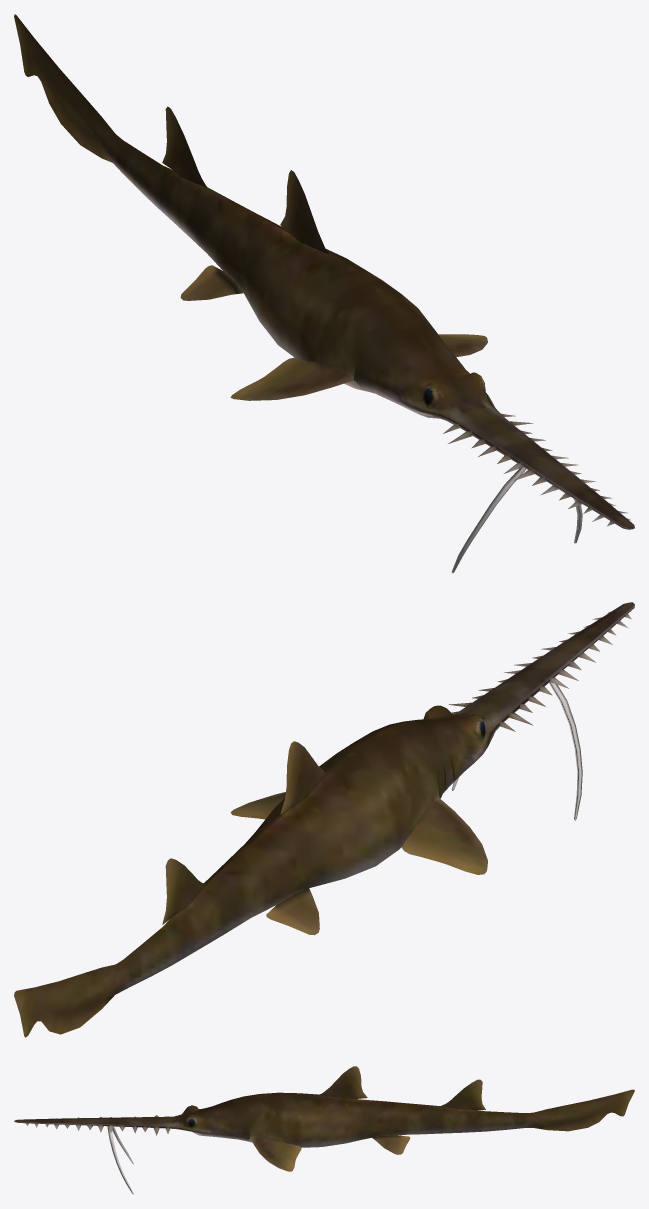
File: saw-shark.glb
3 renders of one model, top to bottom at view 1: azimuth 30°, elevation 25°; view 2: azimuth 150°, elevation 25°; view 3: azimuth 270°, elevation 25°, orthographic. The views are drawn at different scales.
Size of the model in its own units: 4.58 by 3.9 by 19.34.
Materials: 1 (1 with a texture image).
